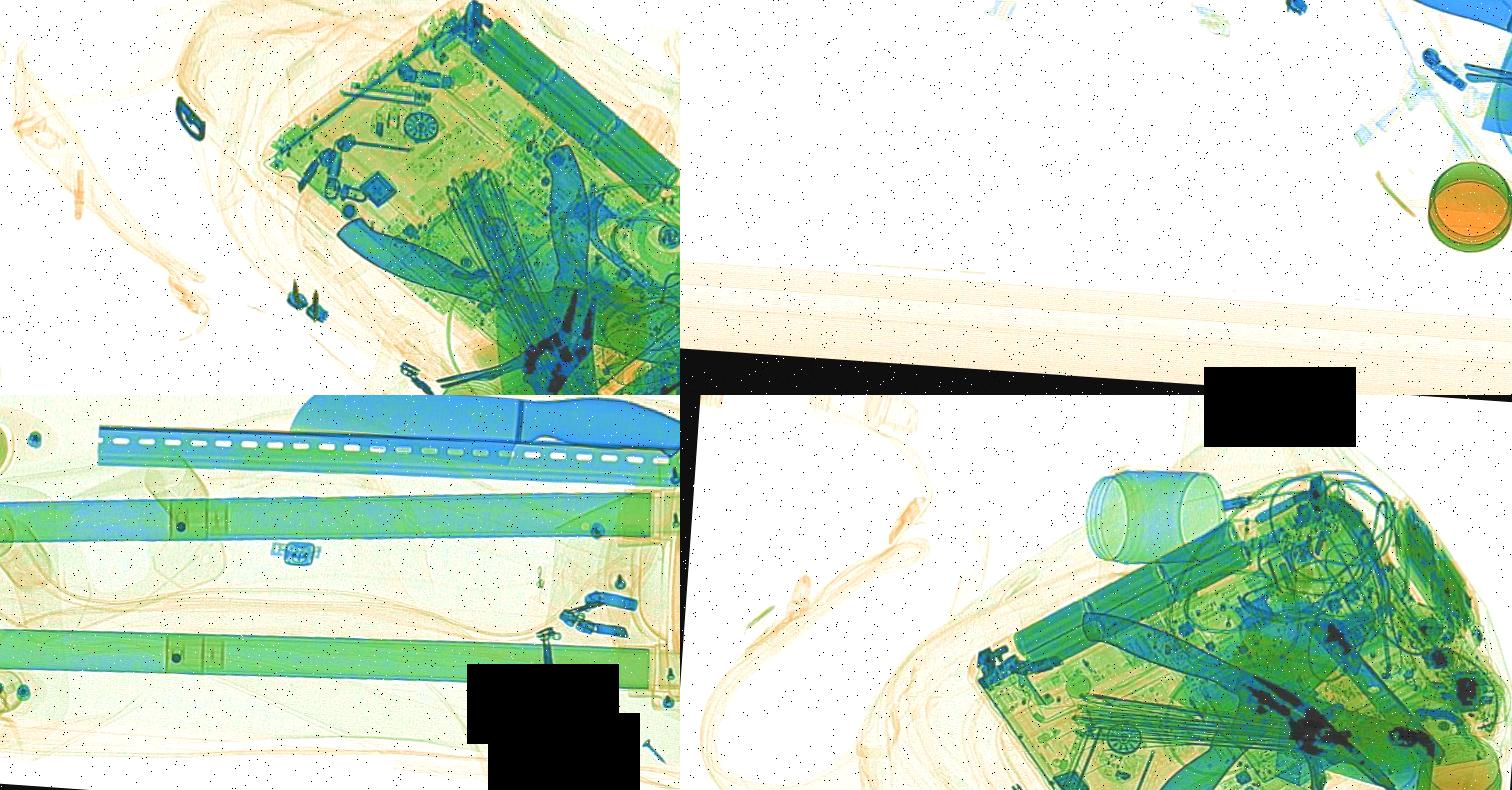Knife: (317, 166, 680, 386), (1045, 602, 1468, 790), (1065, 569, 1374, 790), (462, 132, 627, 395), (285, 395, 680, 480), (1314, 0, 1512, 116)
